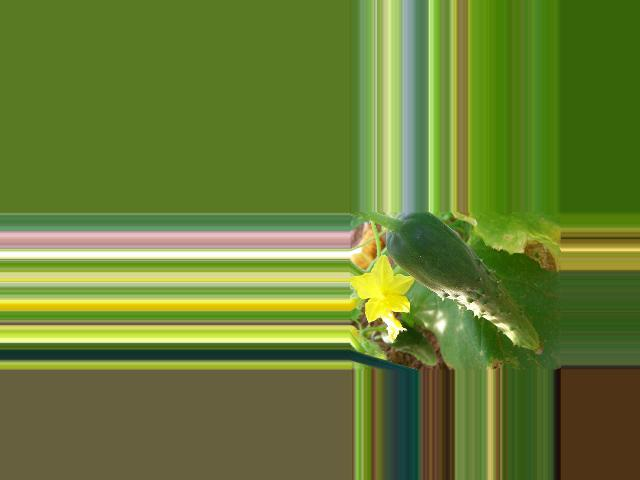cucumber: (385, 211, 543, 355)
